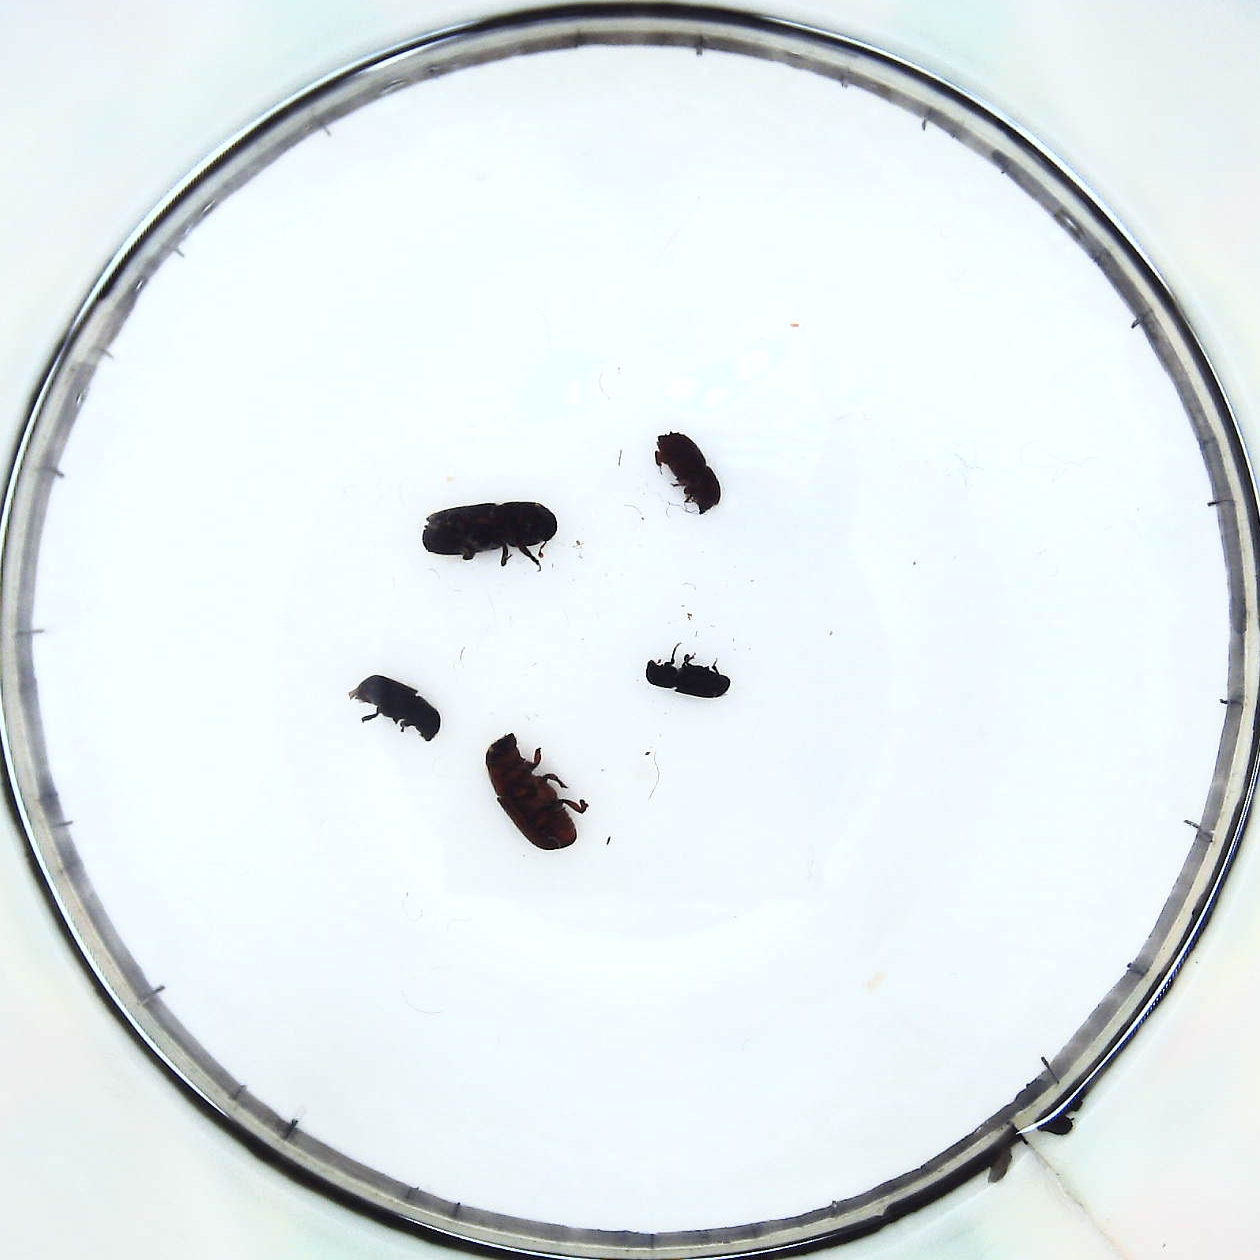Boerner: (422, 493, 555, 567)
Leconte: (485, 728, 588, 852)
Linnaeus: (648, 429, 722, 513)
armandi: (350, 674, 443, 747)
coleoptera: (643, 652, 735, 705)
